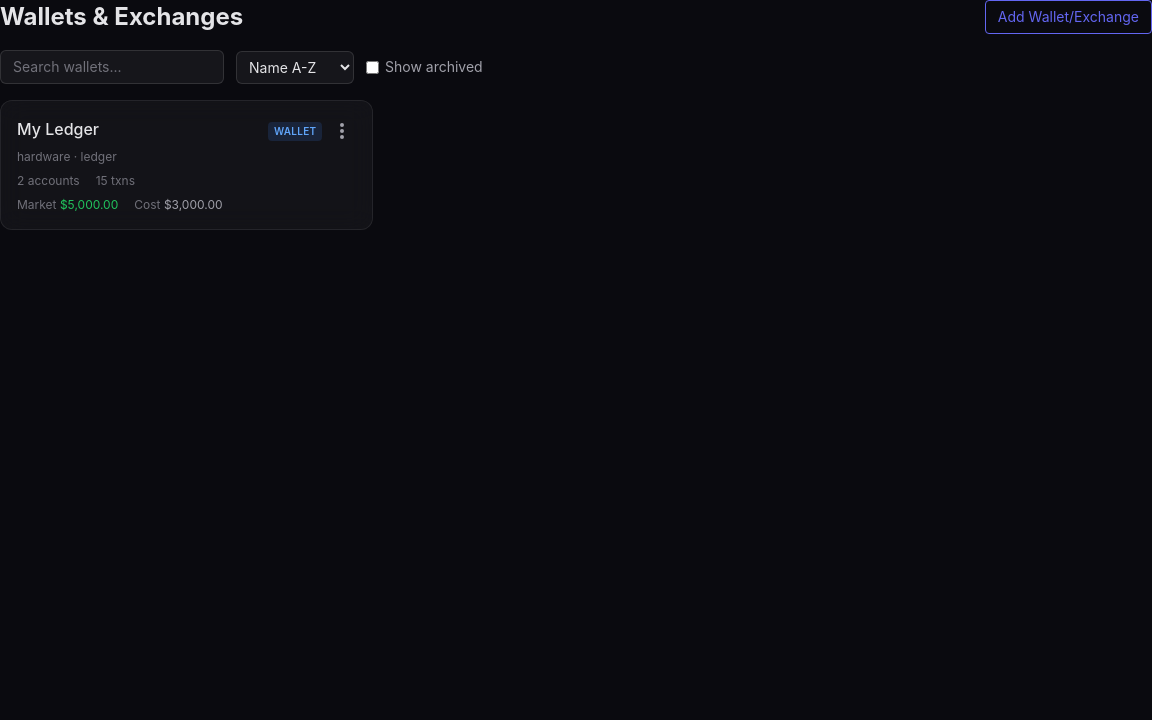
Scenario: Wallets › cancels delete modal
This screenshot has width=1152, height=720.
expect the text "My Ledger" is shown: met, box [17,119,99,139]
Click the 2nd button at x=342, y=131, box [328,117,356,145]
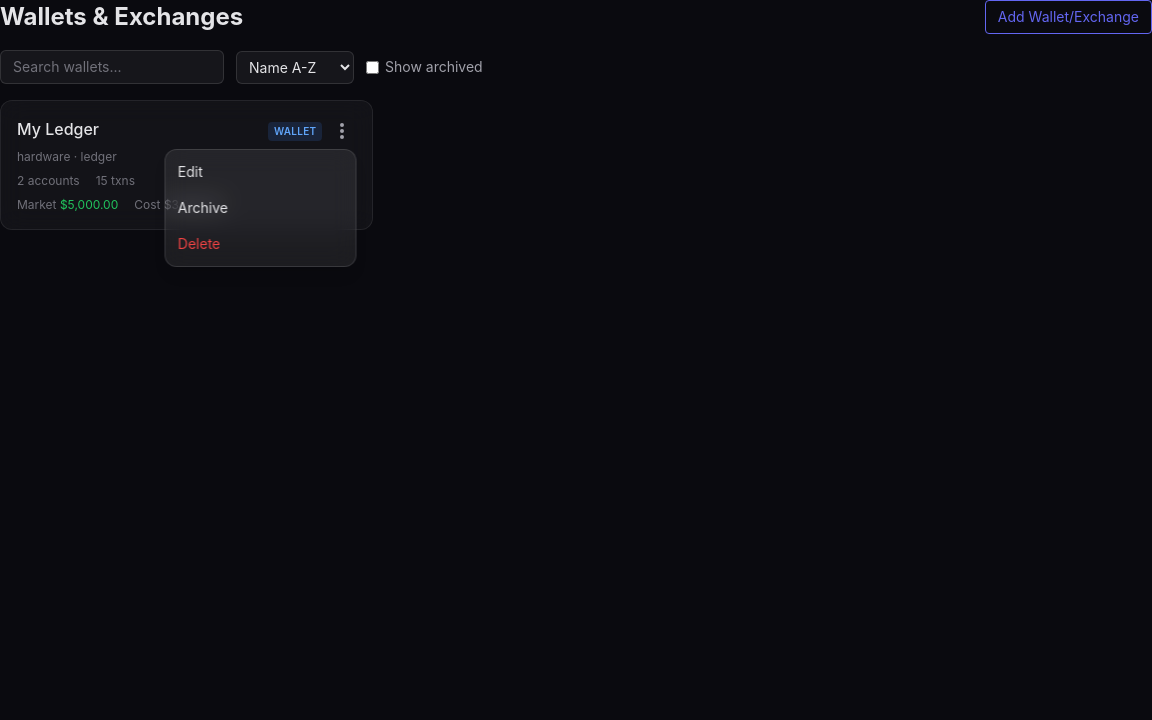
expect the button "Delete" is shown: met
Click the button "Delete" at x=261, y=244, box [166,226,355,262]
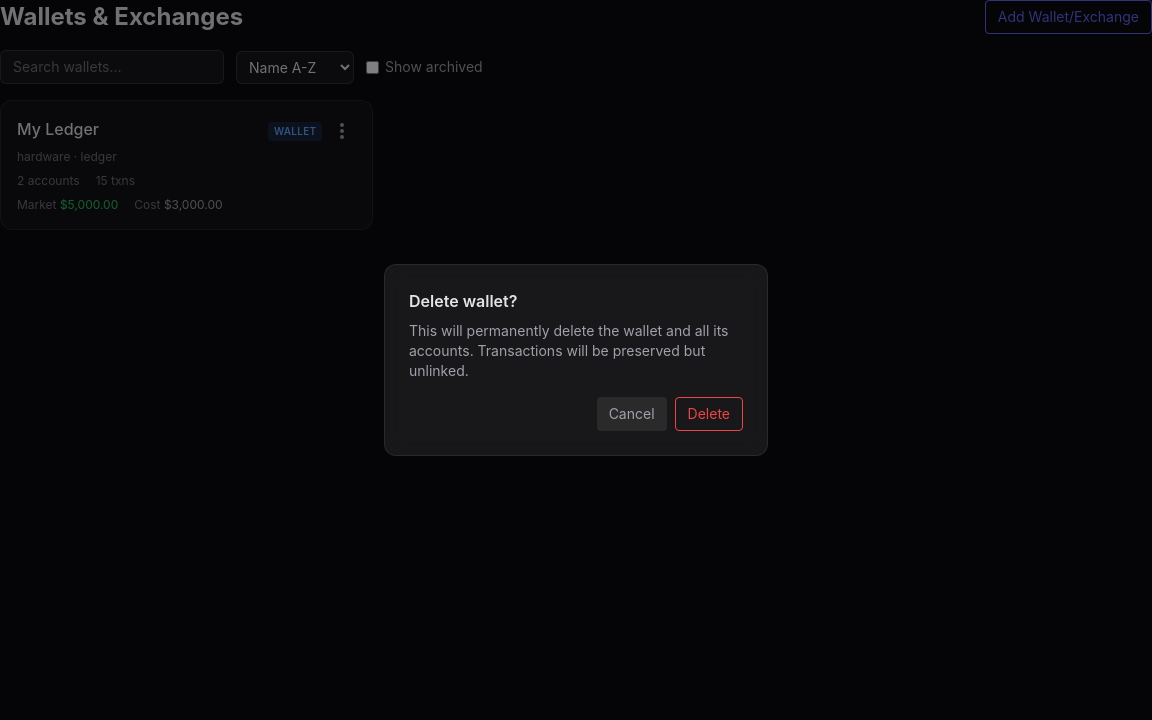
expect the heading "Delete wallet?" is shown: met, box [409,291,517,311]
# Cancel button in modal
Click the button "Cancel" at x=632, y=414, box [597,397,666,431]
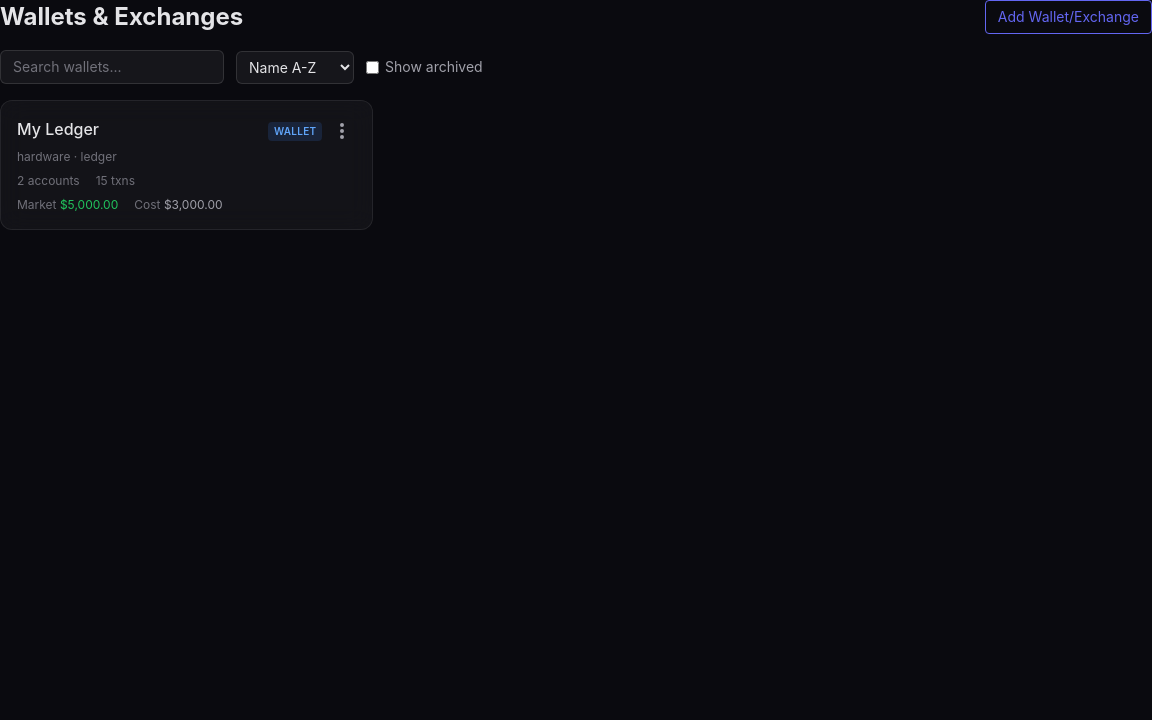
expect the heading "Delete wallet?" is gone: met
